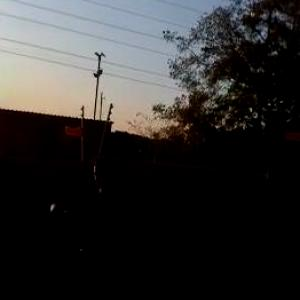follow: (39, 144, 132, 299)
